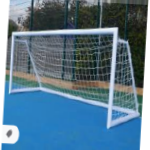goals: (8, 26, 140, 129)
